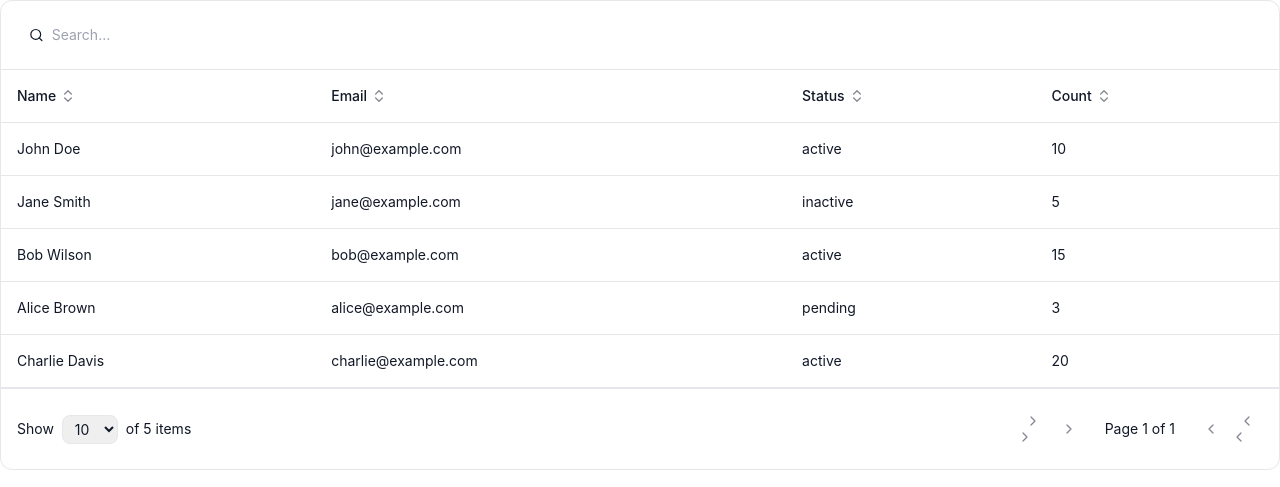
Test: DataTable › Search › should filter data based on search query
The width and height of the screenshot is (1280, 487).
Type "john" into the field with placeholder "Search..." at (178, 35), box [52,25,305,45]
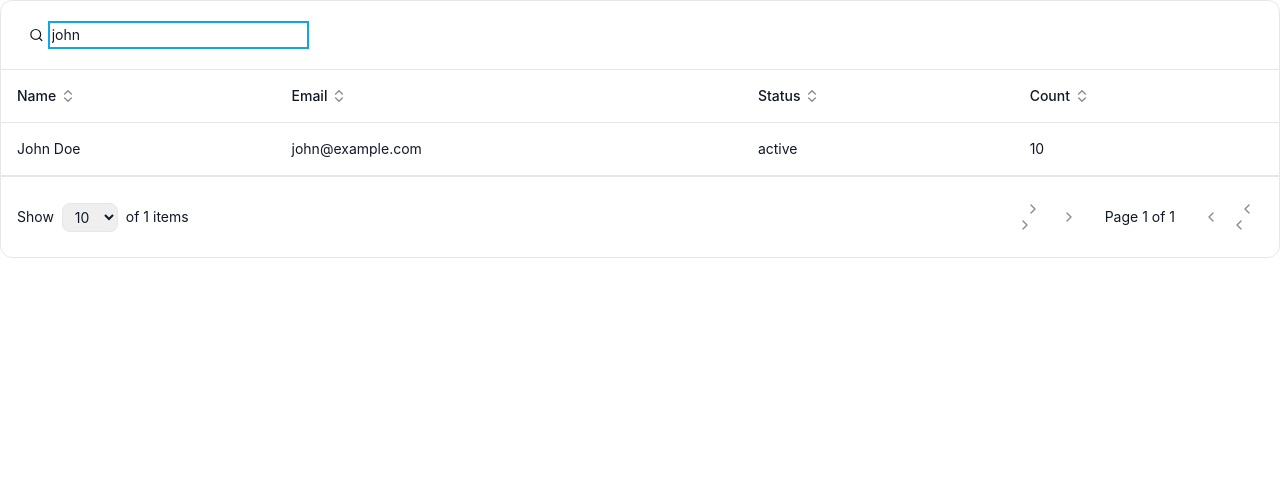
Expected: the text "John Doe" is shown, [1,122,276,176]
Expected: the text "Jane Smith" is gone
